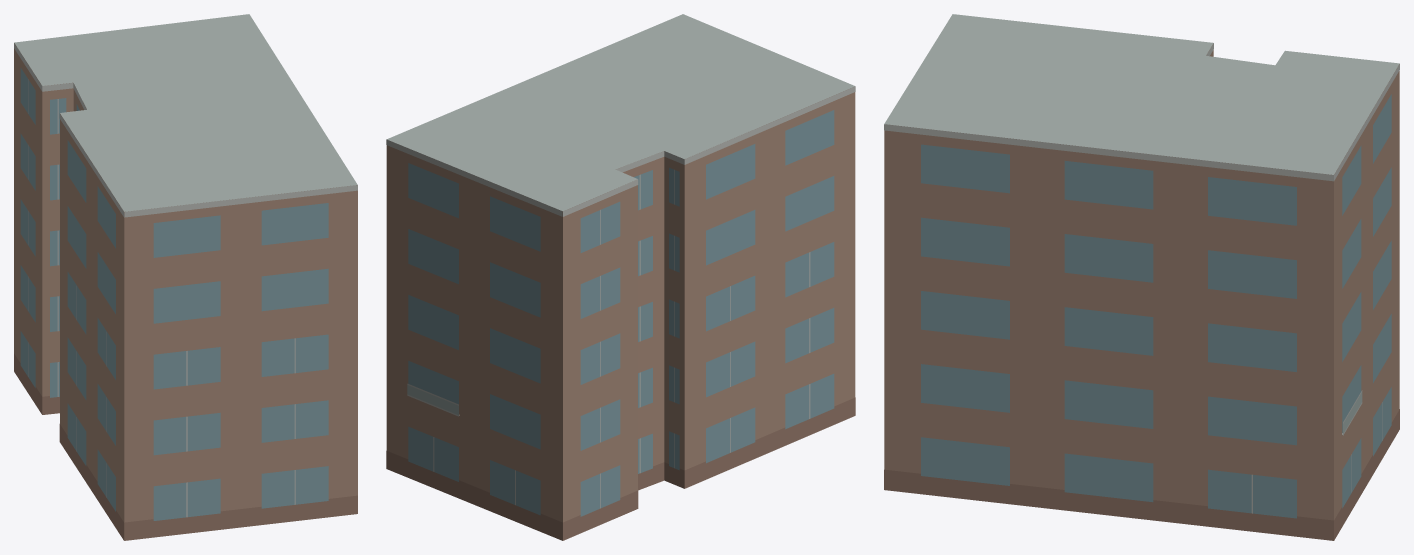
Rendered from survey-upis-32740915.glb.
3 renders of one model, left to right at view 1: azimuth 30°, elevation 25°; view 2: azimuth 150°, elevation 25°; view 3: azimuth 270°, elevation 25°, orthographic. The views are drawn at different scales.
Parts seen in each view (by area): view 1: survey-upis-32740915.tmp; view 2: survey-upis-32740915.tmp; view 3: survey-upis-32740915.tmp.
Part boxes in pixels (x1,y1,x2,y2): survey-upis-32740915.tmp: (14,14,357,540); survey-upis-32740915.tmp: (386,14,855,540); survey-upis-32740915.tmp: (884,14,1399,540).
Bounding box in the file's own units: 13.32 × 14.1 × 18.02.
